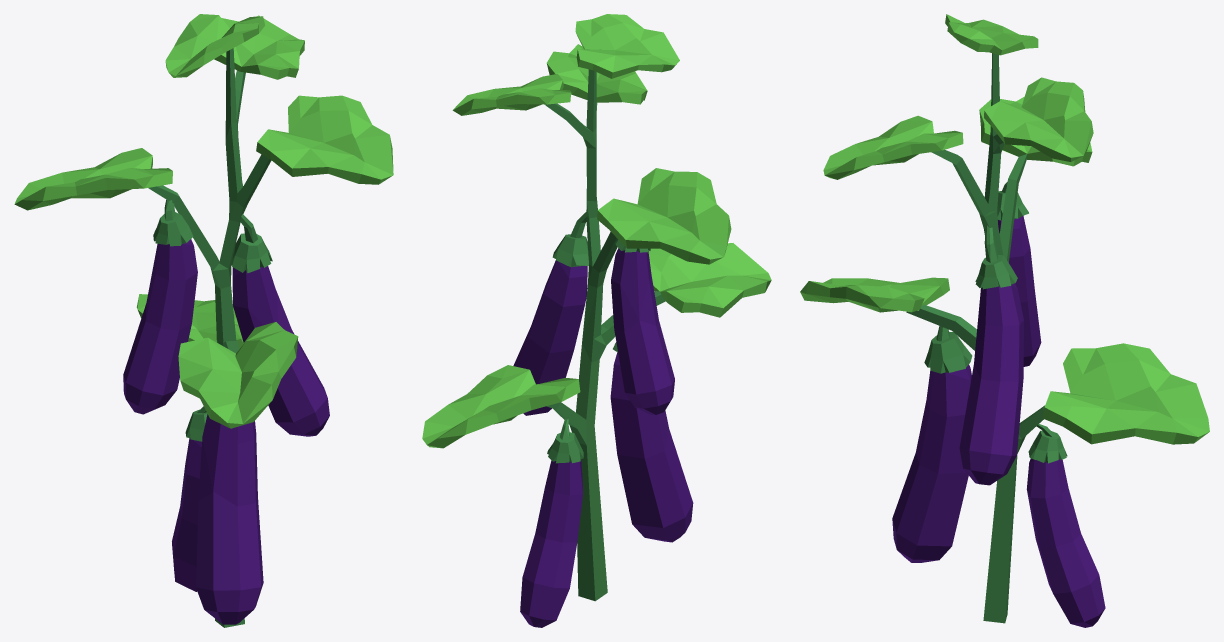
Rendered from Eggplant_L_Groowing.fbx.
The picture shows the model from 3 angles, left to right: view 1: azimuth 30°, elevation 25°; view 2: azimuth 150°, elevation 25°; view 3: azimuth 270°, elevation 25°; orthographic projection. The views are drawn at different scales.
Visible parts, largest first — view 1: Eggplant_L_Groowing, Eggplant_2, Eggplant_3, Eggplant_4, Eggplant_1; view 2: Eggplant_L_Groowing, Eggplant_2, Eggplant_1, Eggplant_3, Eggplant_4; view 3: Eggplant_L_Groowing, Eggplant_2, Eggplant_4, Eggplant_1, Eggplant_3.
Part boxes in pixels (x1=…): Eggplant_L_Groowing: x1=14, y1=14, x2=393, y2=627; Eggplant_2: x1=196, y1=414, x2=263, y2=624; Eggplant_3: x1=123, y1=212, x2=197, y2=414; Eggplant_4: x1=231, y1=233, x2=329, y2=436; Eggplant_1: x1=172, y1=409, x2=207, y2=591; Eggplant_L_Groowing: x1=422, y1=14, x2=771, y2=601; Eggplant_2: x1=610, y1=342, x2=693, y2=542; Eggplant_1: x1=520, y1=432, x2=583, y2=627; Eggplant_3: x1=611, y1=239, x2=674, y2=414; Eggplant_4: x1=513, y1=234, x2=588, y2=415; Eggplant_L_Groowing: x1=800, y1=14, x2=1209, y2=623; Eggplant_2: x1=892, y1=331, x2=972, y2=562; Eggplant_4: x1=959, y1=255, x2=1023, y2=485; Eggplant_1: x1=1026, y1=430, x2=1105, y2=627; Eggplant_3: x1=997, y1=191, x2=1041, y2=366.
Size of the model in its own units: 41.88 by 85.6 by 53.66.
